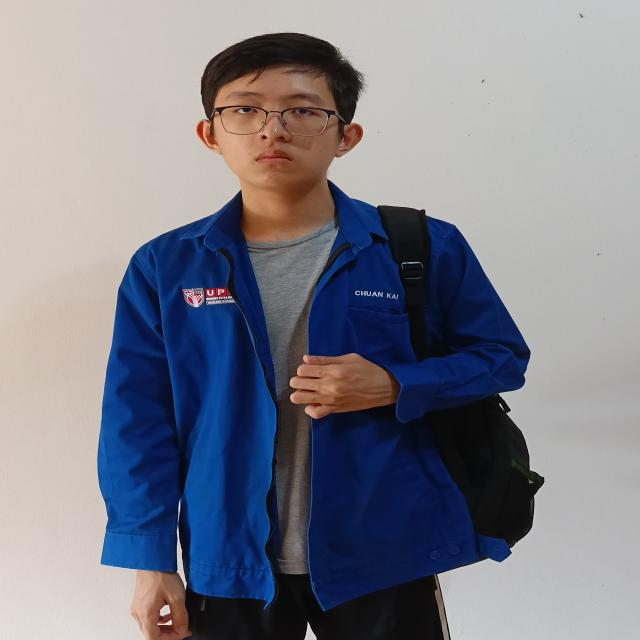person_with_labcoat: (98, 33, 543, 640)
